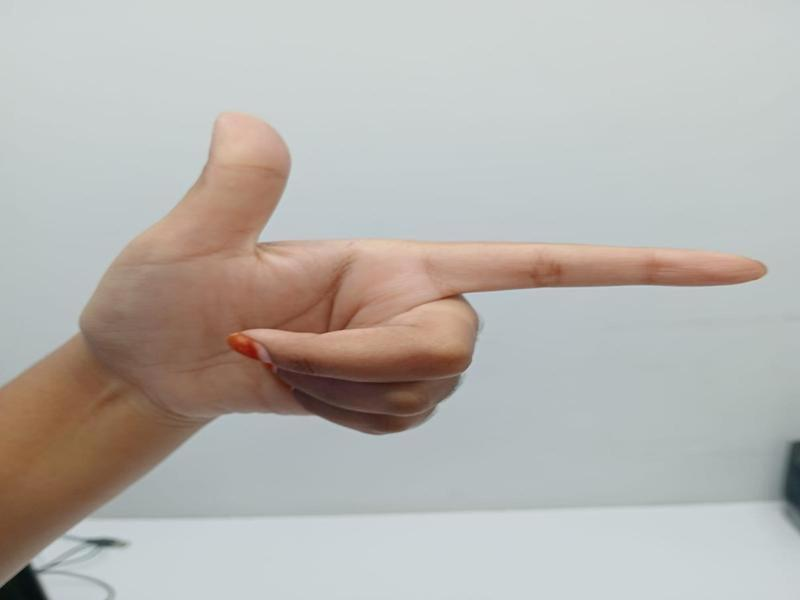FORWARD: (1, 99, 774, 600)
